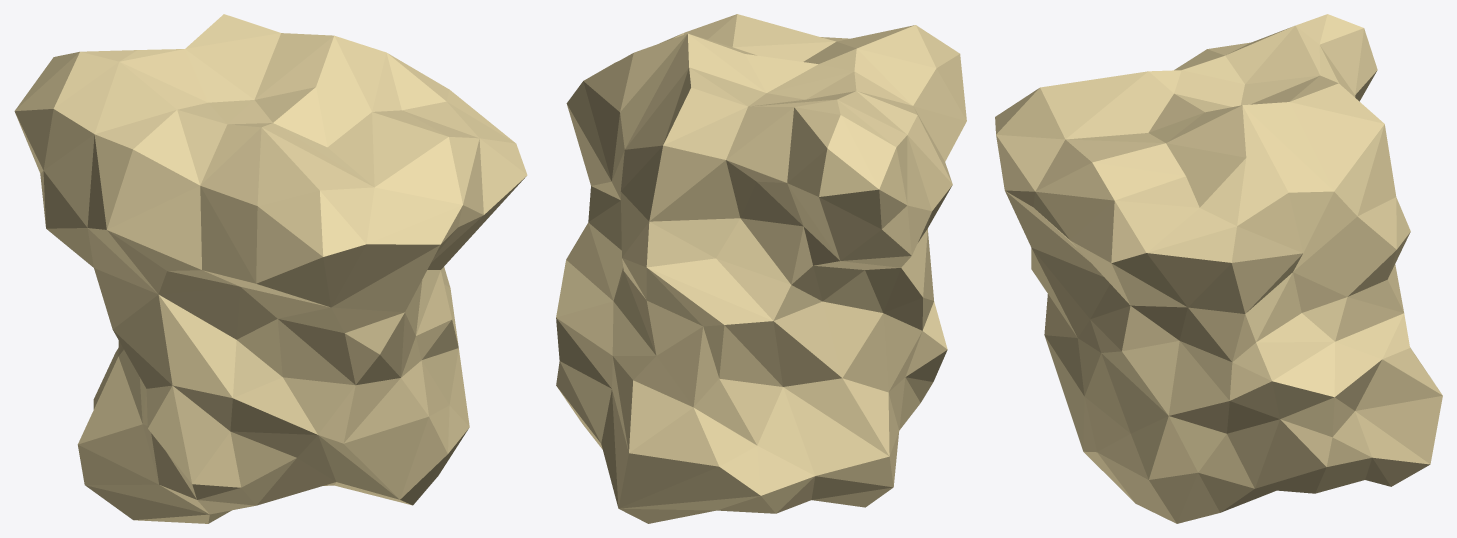
The model's file is Asteroid (98).fbx.
The picture shows the model from 3 angles, left to right: view 1: azimuth 30°, elevation 25°; view 2: azimuth 150°, elevation 25°; view 3: azimuth 270°, elevation 25°; orthographic projection. The views are drawn at different scales.
Parts seen in each view (by area): view 1: Asteroid118; view 2: Asteroid118; view 3: Asteroid118.
Part boxes in pixels (x1,y1,x2,y2): Asteroid118: (14,14,527,523); Asteroid118: (556,14,966,523); Asteroid118: (995,14,1442,523).
Bounding box in the file's own units: 198 × 216 × 216.
